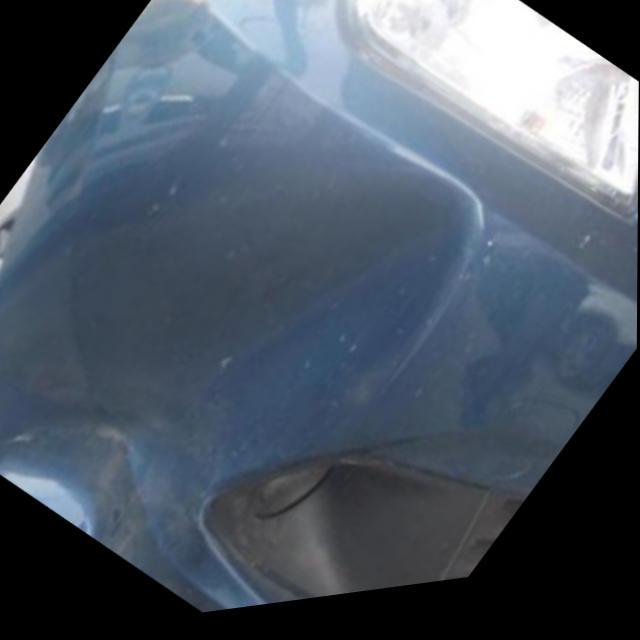dent: (0, 174, 477, 566)
